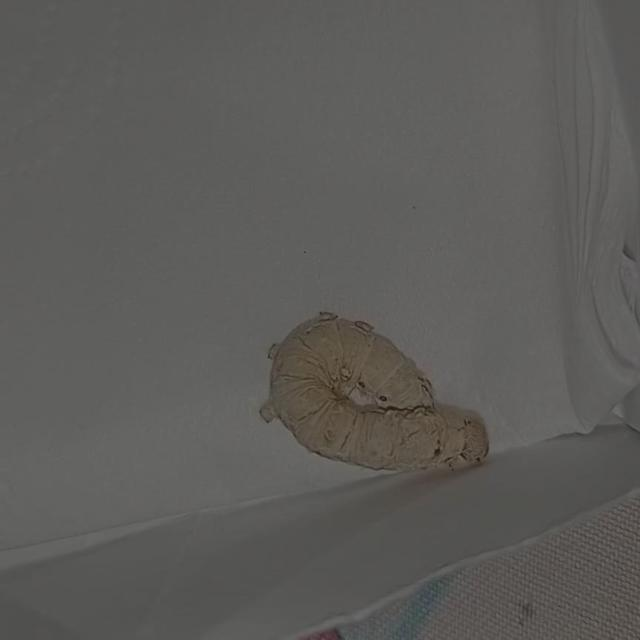Healthy: (251, 301, 495, 479)
